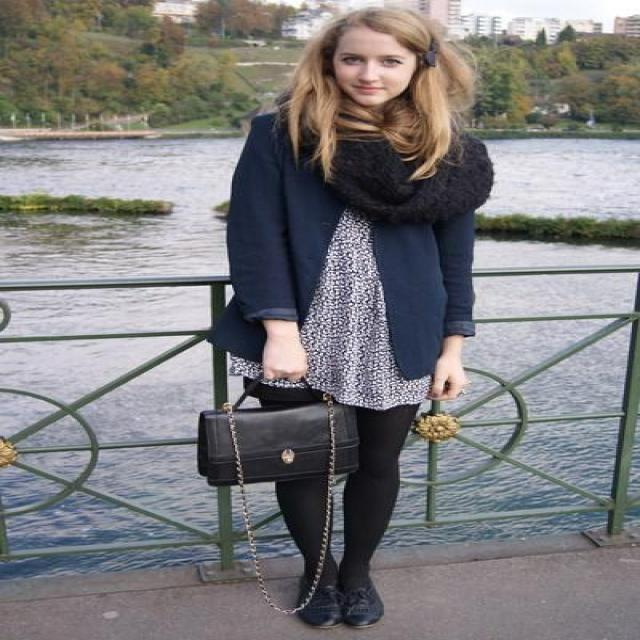bag: (173, 371, 363, 498)
dress: (229, 215, 422, 408)
jacket: (176, 92, 517, 396)
shoe: (294, 587, 382, 626)
